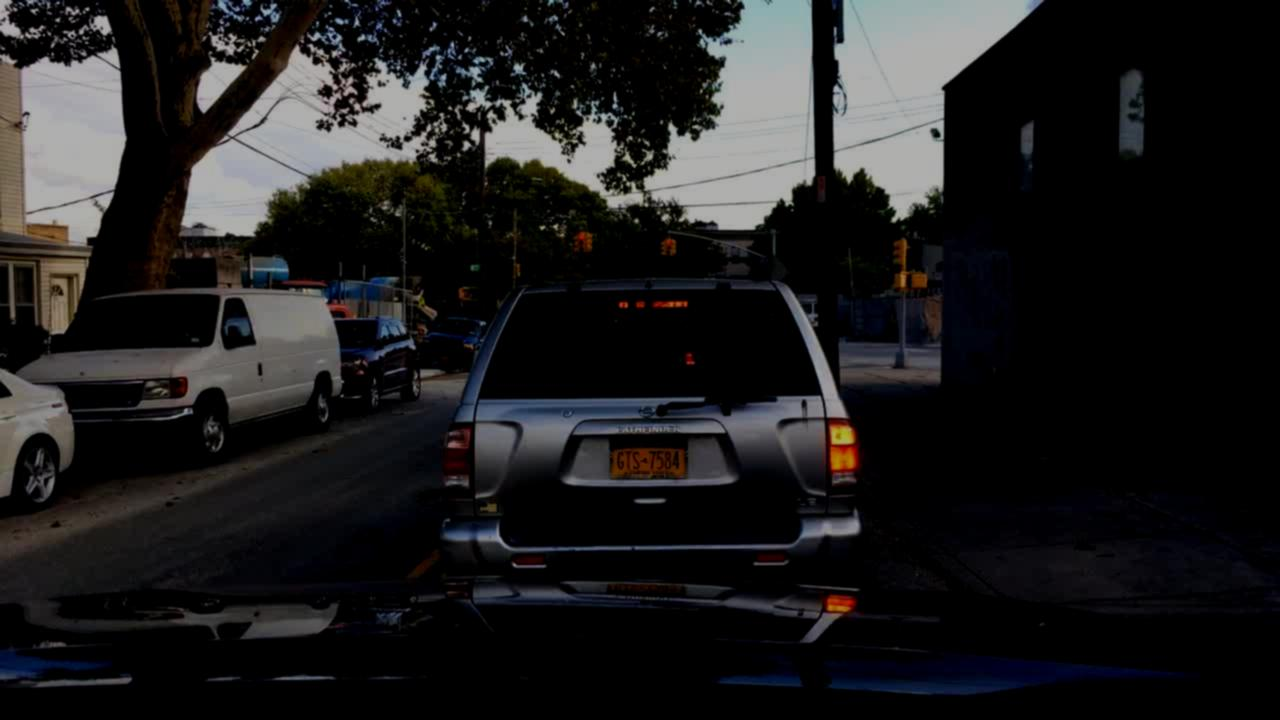Nissan: (634, 399, 660, 426)
